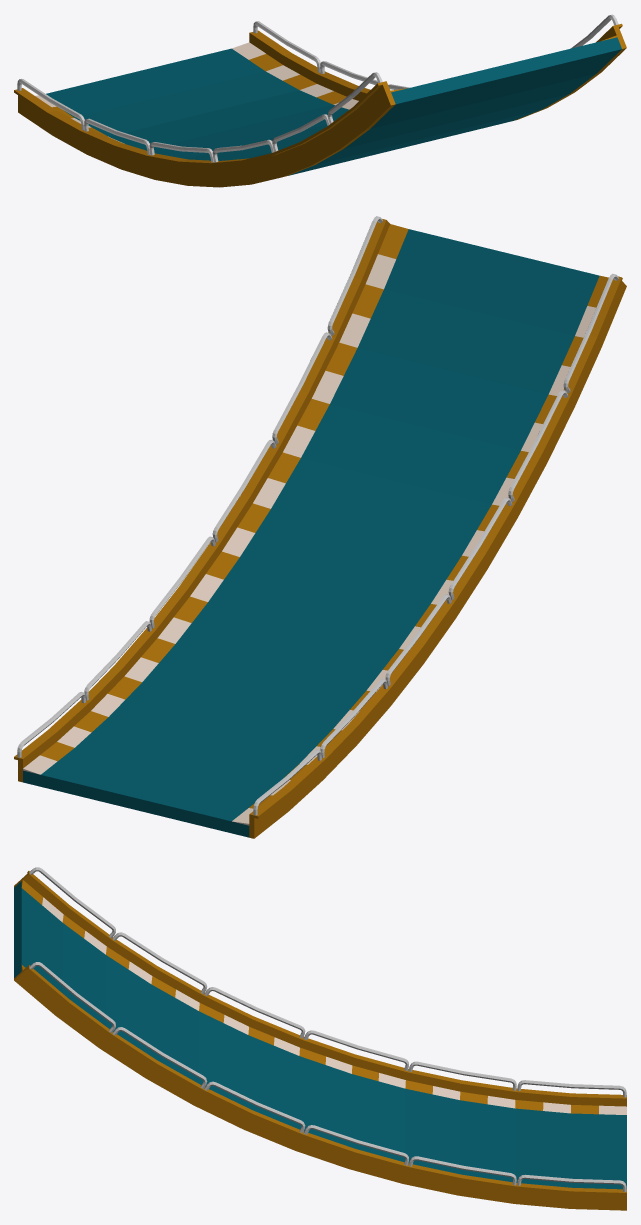
File: ascent-45_l.FBX
The picture shows the model from 3 angles, top to bottom: view 1: azimuth 30°, elevation 25°; view 2: azimuth 150°, elevation 25°; view 3: azimuth 270°, elevation 25°; orthographic projection. The views are drawn at different scales.
Visible parts, largest first — view 1: ascent-45_l, wall_r, wall_l, curbs_l, curbs_r; view 2: ascent-45_l, wall_r, wall_l, curbs_l, curbs_r; view 3: ascent-45_l, wall_l, wall_r, curbs_r.
Part boxes in pixels (<box>): ascent-45_l: <box>46,37,621,175</box>; wall_r: <box>14,72,395,187</box>; wall_l: <box>249,14,626,120</box>; curbs_l: <box>232,35,616,109</box>; curbs_r: <box>35,88,406,143</box>; ascent-45_l: <box>23,229,599,837</box>; wall_r: <box>249,273,626,838</box>; wall_l: <box>14,216,389,782</box>; curbs_l: <box>23,224,408,774</box>; curbs_r: <box>232,275,608,825</box>; ascent-45_l: <box>14,881,626,1189</box>; wall_l: <box>14,962,626,1210</box>; wall_r: <box>14,867,626,1106</box>; curbs_r: <box>21,880,626,1114</box>.
Size of what is drawn, in the model's own units: 207 by 244 by 547.
